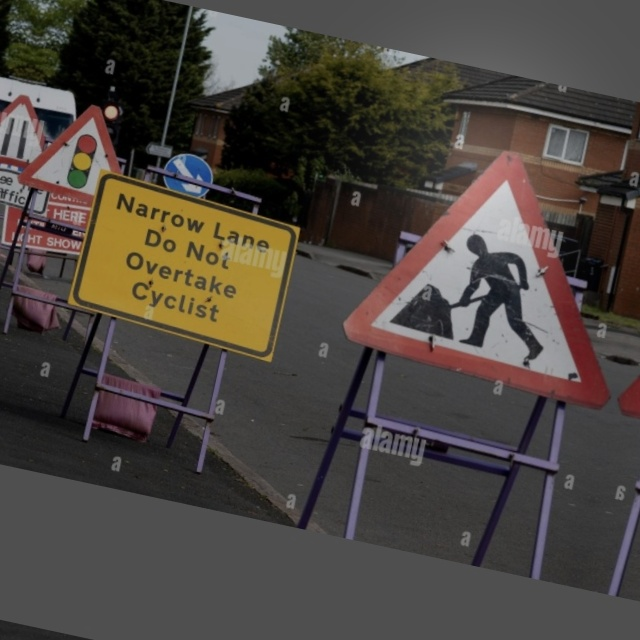Men_at_Work: (336, 110, 639, 413)
